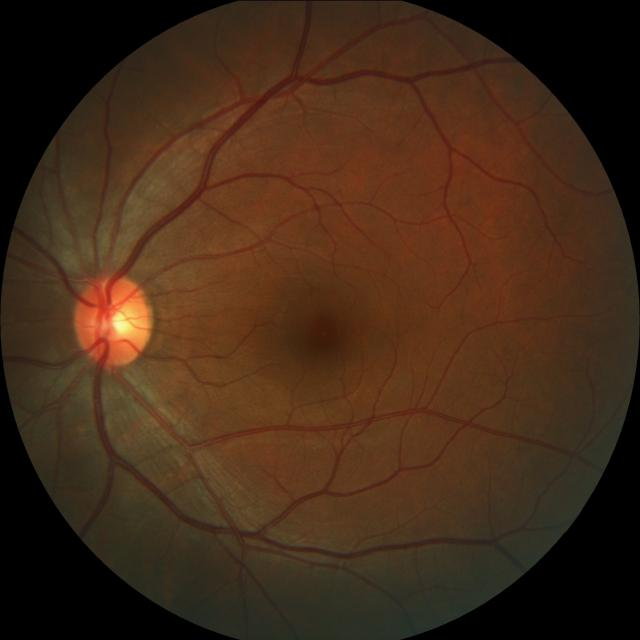OC: (94, 300, 135, 342)
OD: (71, 271, 152, 365)
